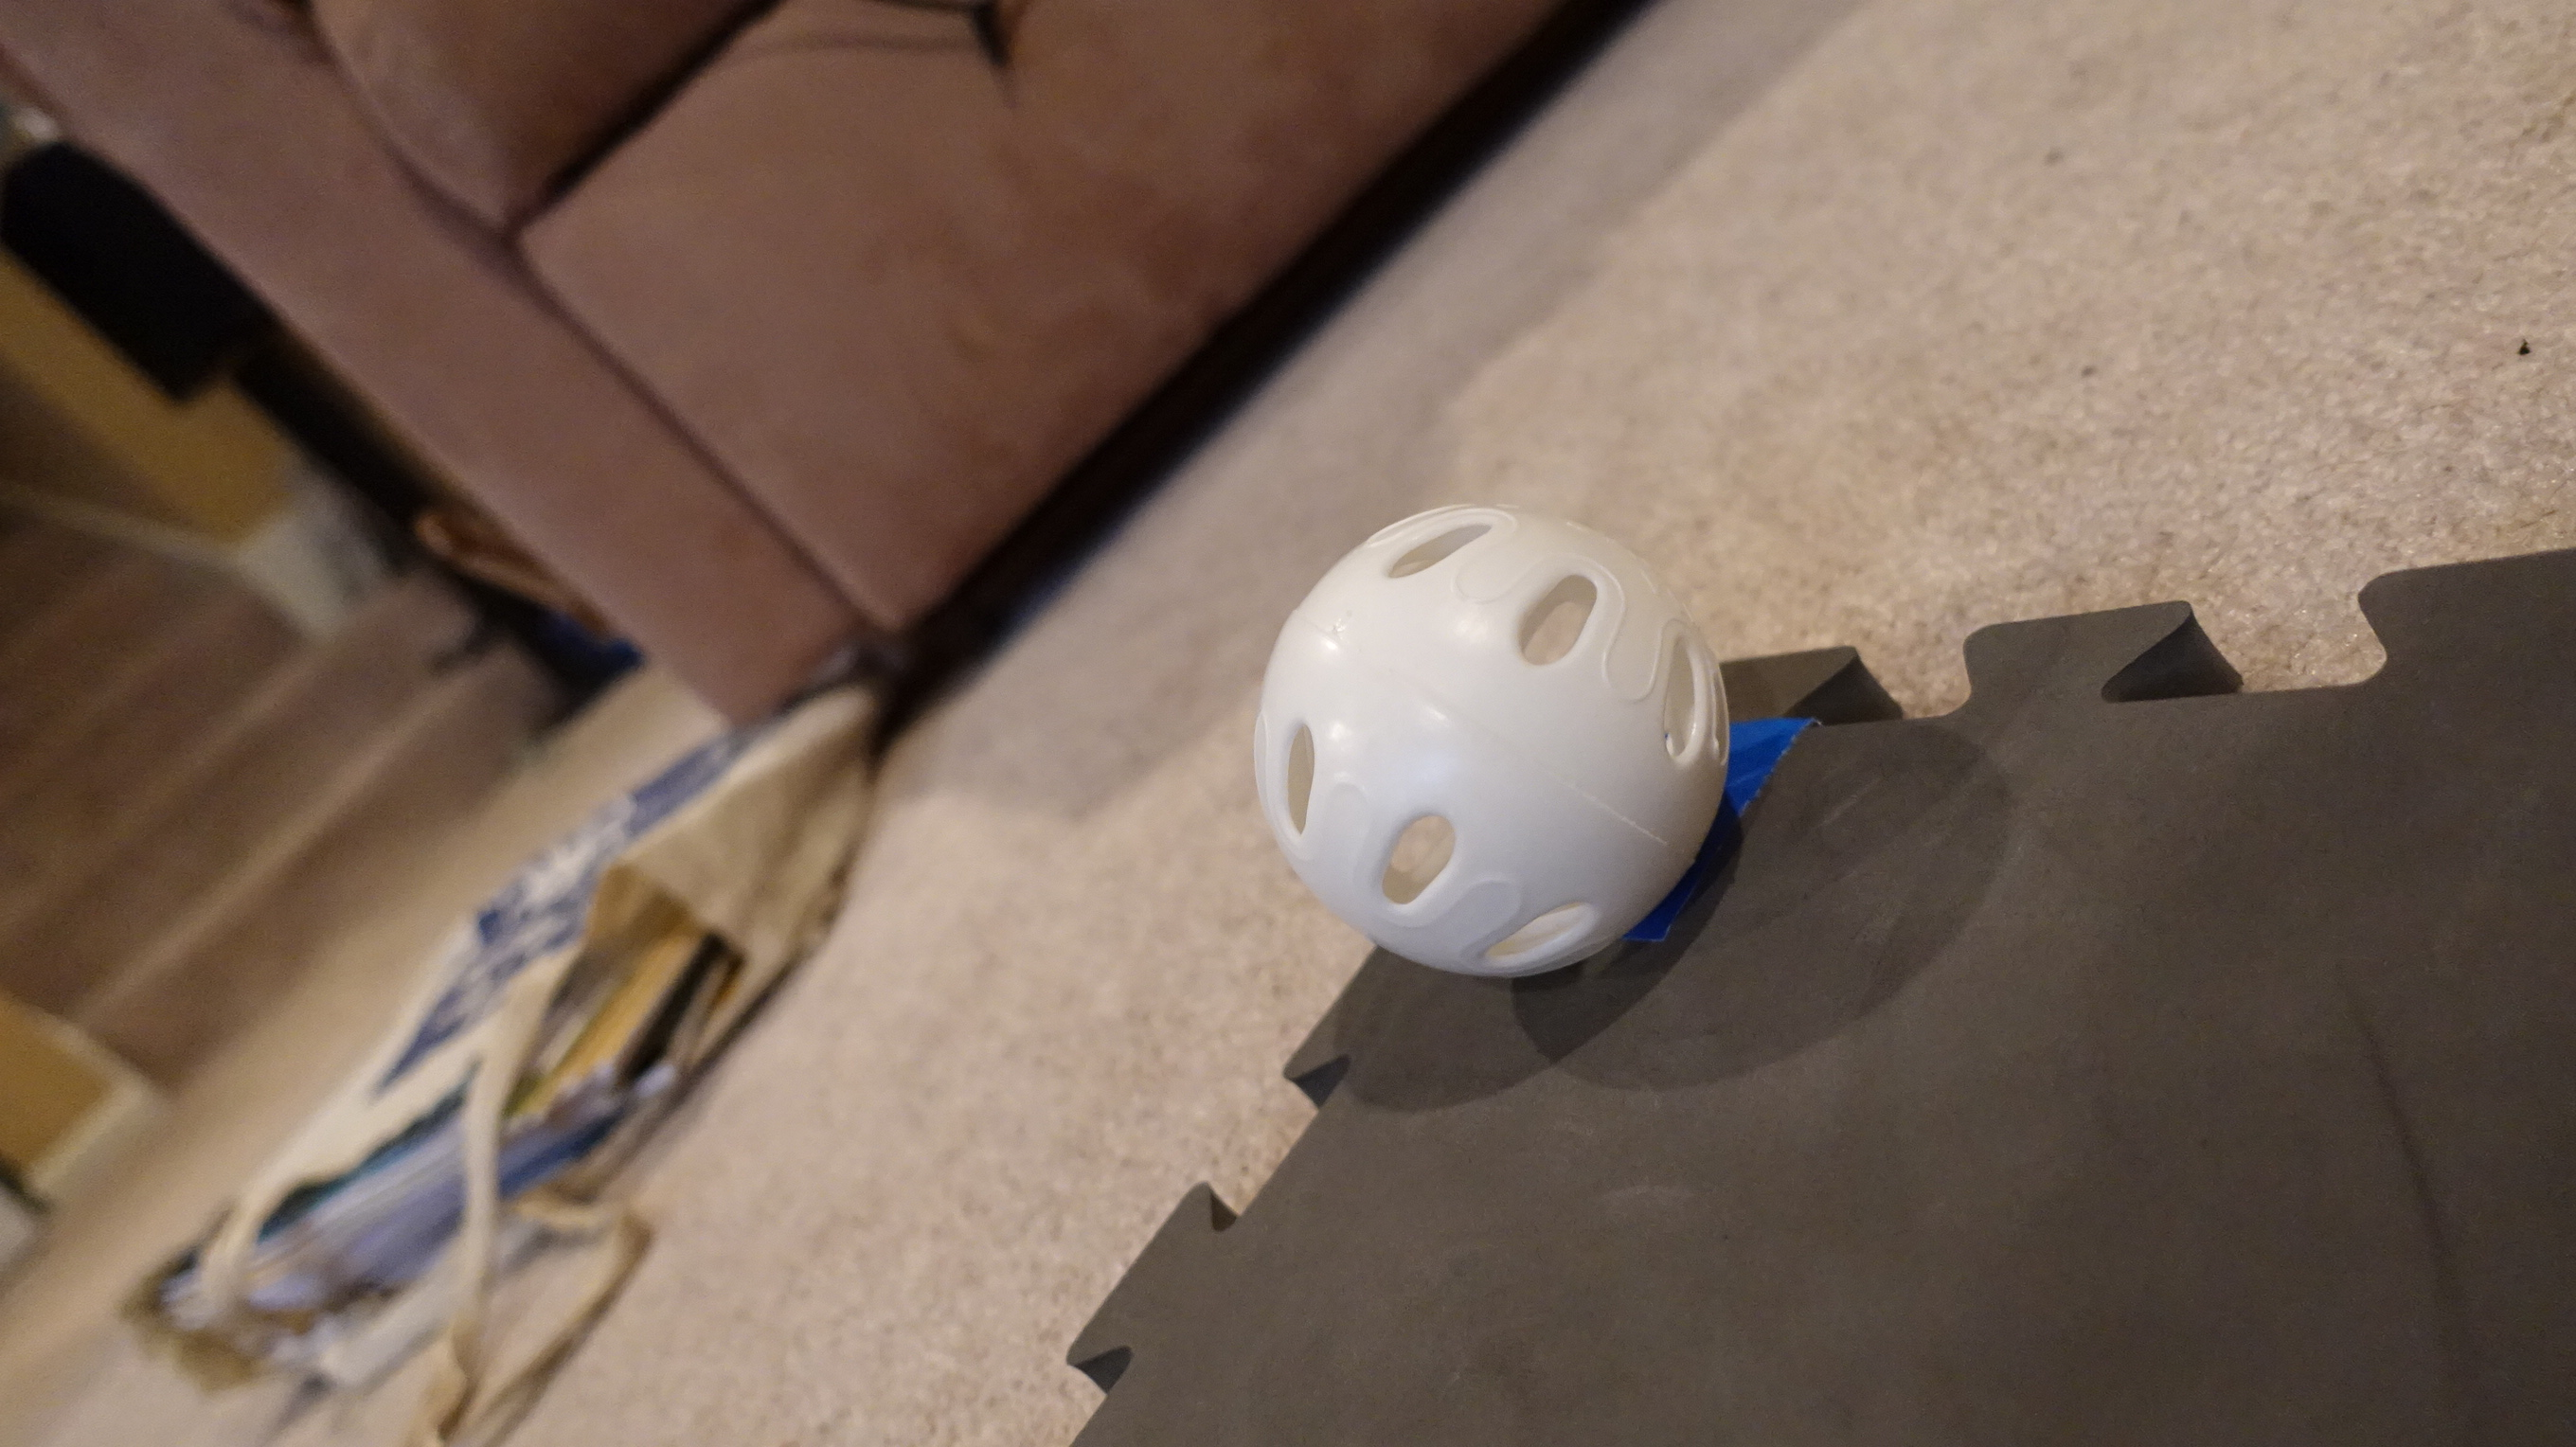silver: (1253, 499, 1739, 976)
